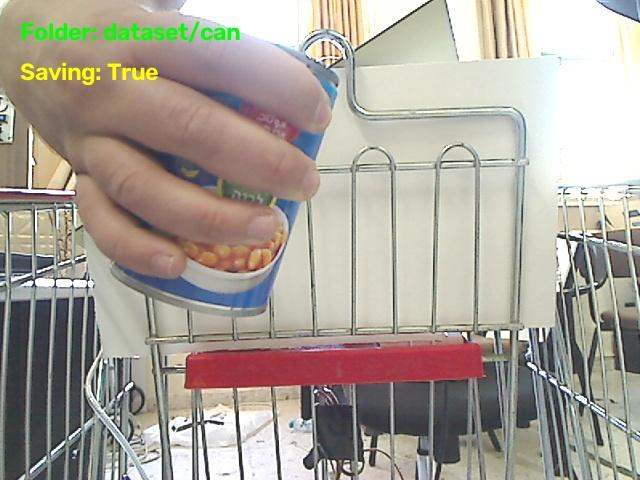can: (112, 155, 299, 315)
